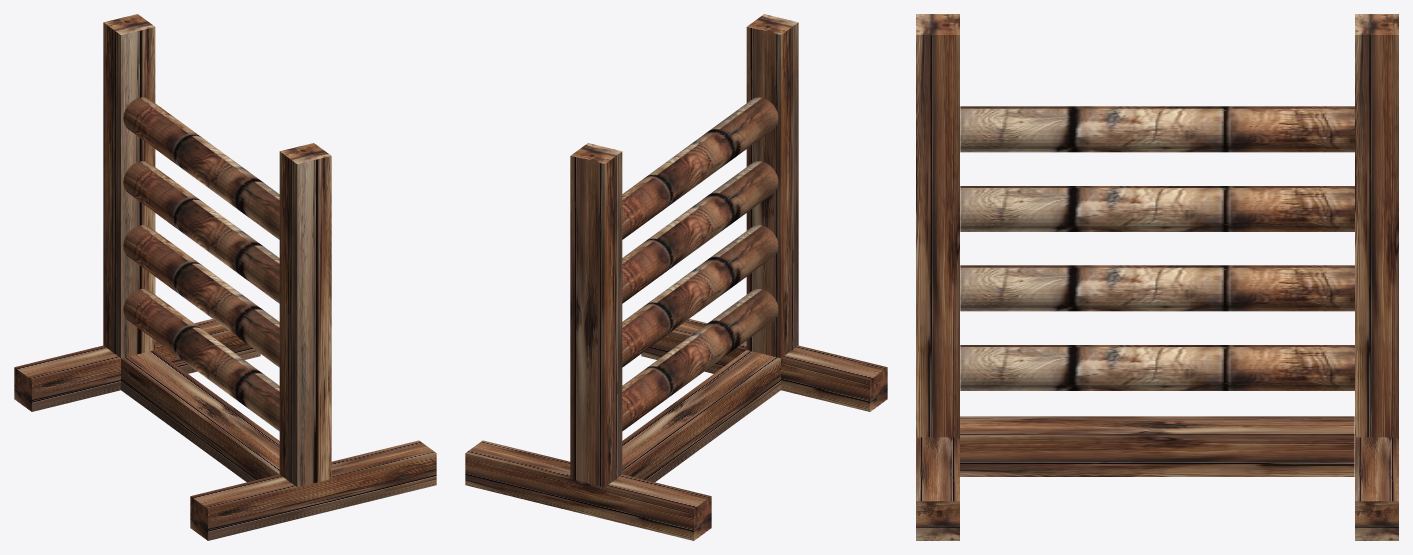
File: Hyppyeste3D.glb
3 renders of one model, left to right at view 1: azimuth 30°, elevation 25°; view 2: azimuth 150°, elevation 25°; view 3: azimuth 270°, elevation 25°, orthographic. The views are drawn at different scales.
Parts seen in each view (by area): view 1: Cube.005; view 2: Cube.005; view 3: Cube.005.
Boxes of the visible parts, bbox=[...] form: Cube.005: bbox=[14, 14, 436, 540]; Cube.005: bbox=[465, 14, 887, 540]; Cube.005: bbox=[916, 14, 1398, 540].
Bounding box in the file's own units: 0.2978 × 0.4416 × 0.4369.
Materials: 1 (1 with a texture image).
